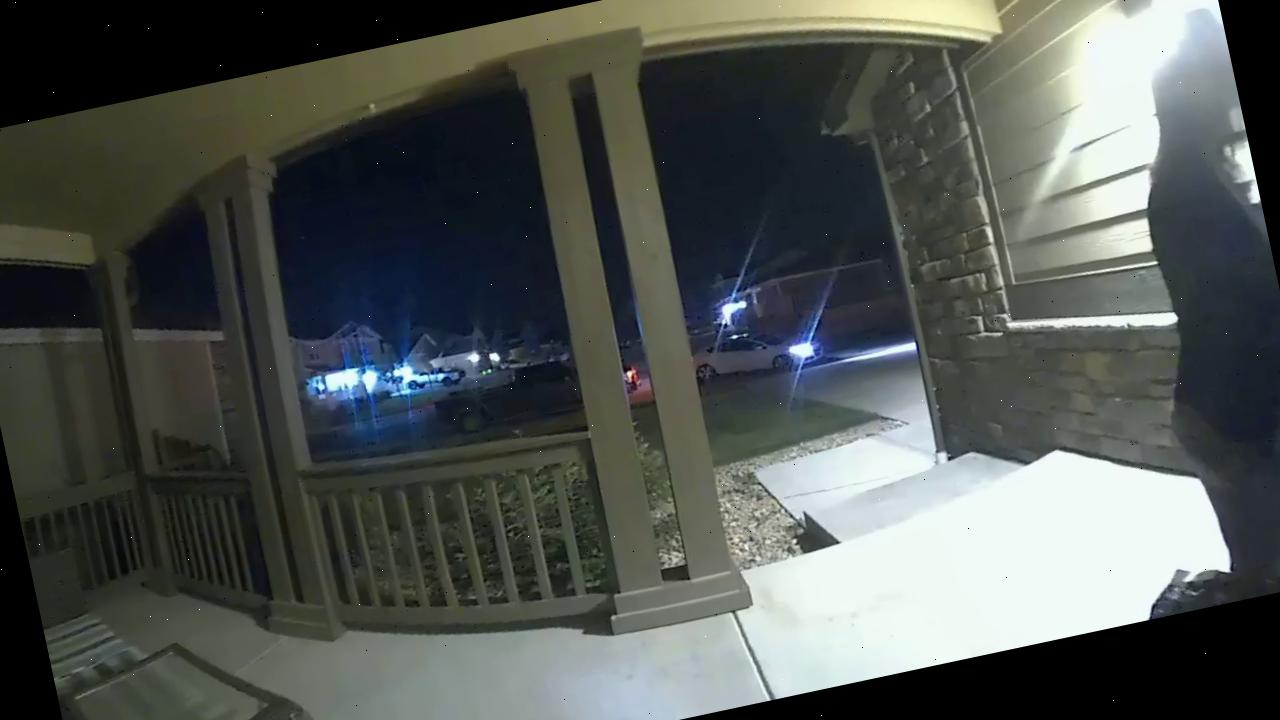suspicion: (1065, 0, 1280, 610)
